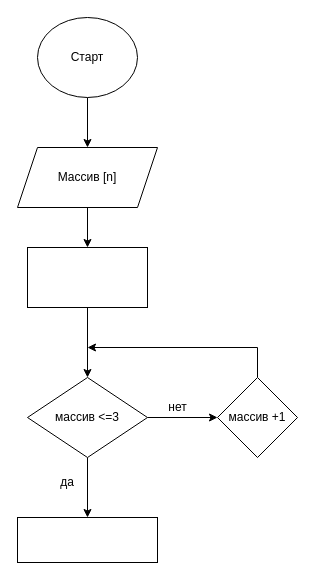
The diagram is 315 pixels wide and 580 high, and some of its shapes have lost their labels. The shapes that lost their labels are listed below. From the top down, each one's centre as x and y in pixels, then its label:
(x=87, y=277): массив=0
(x=87, y=539): печать массива
